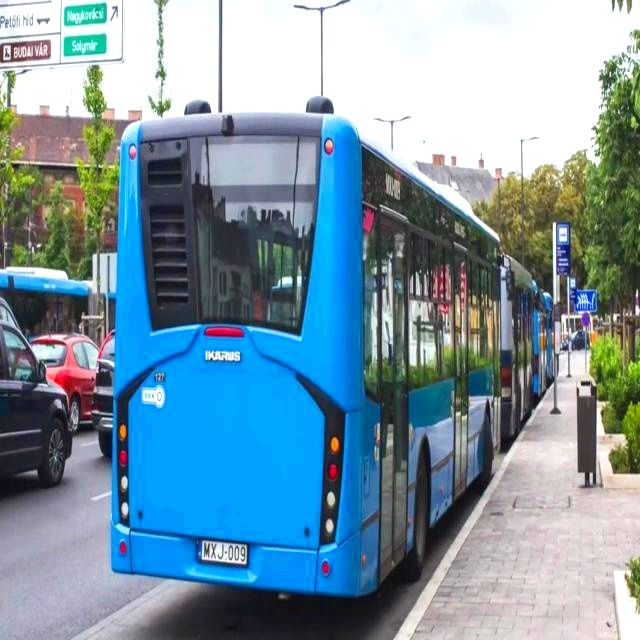bus: (81, 94, 500, 610)
